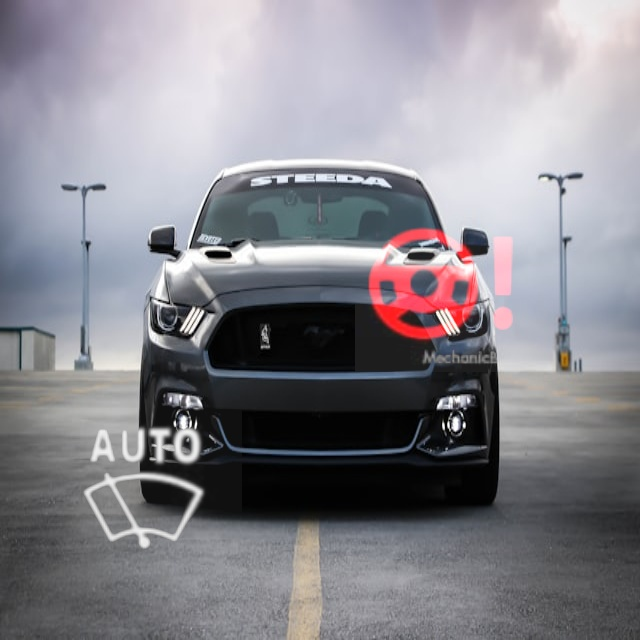symbol: (47, 393, 242, 588), (355, 198, 529, 372)
